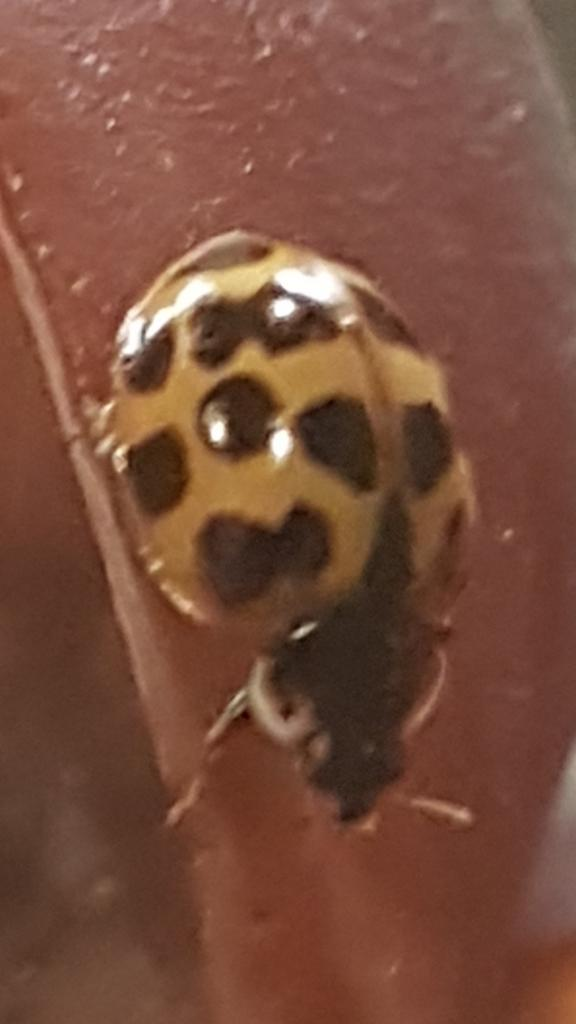ladybug: (79, 221, 489, 849)
